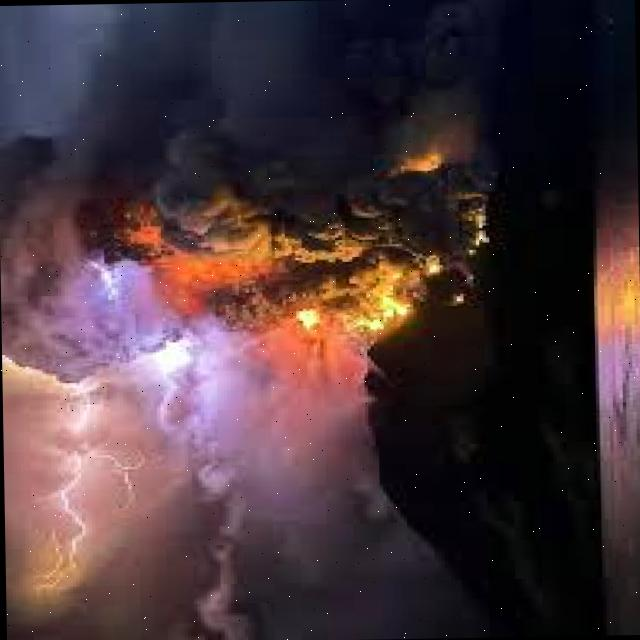explosion: (107, 137, 561, 510)
